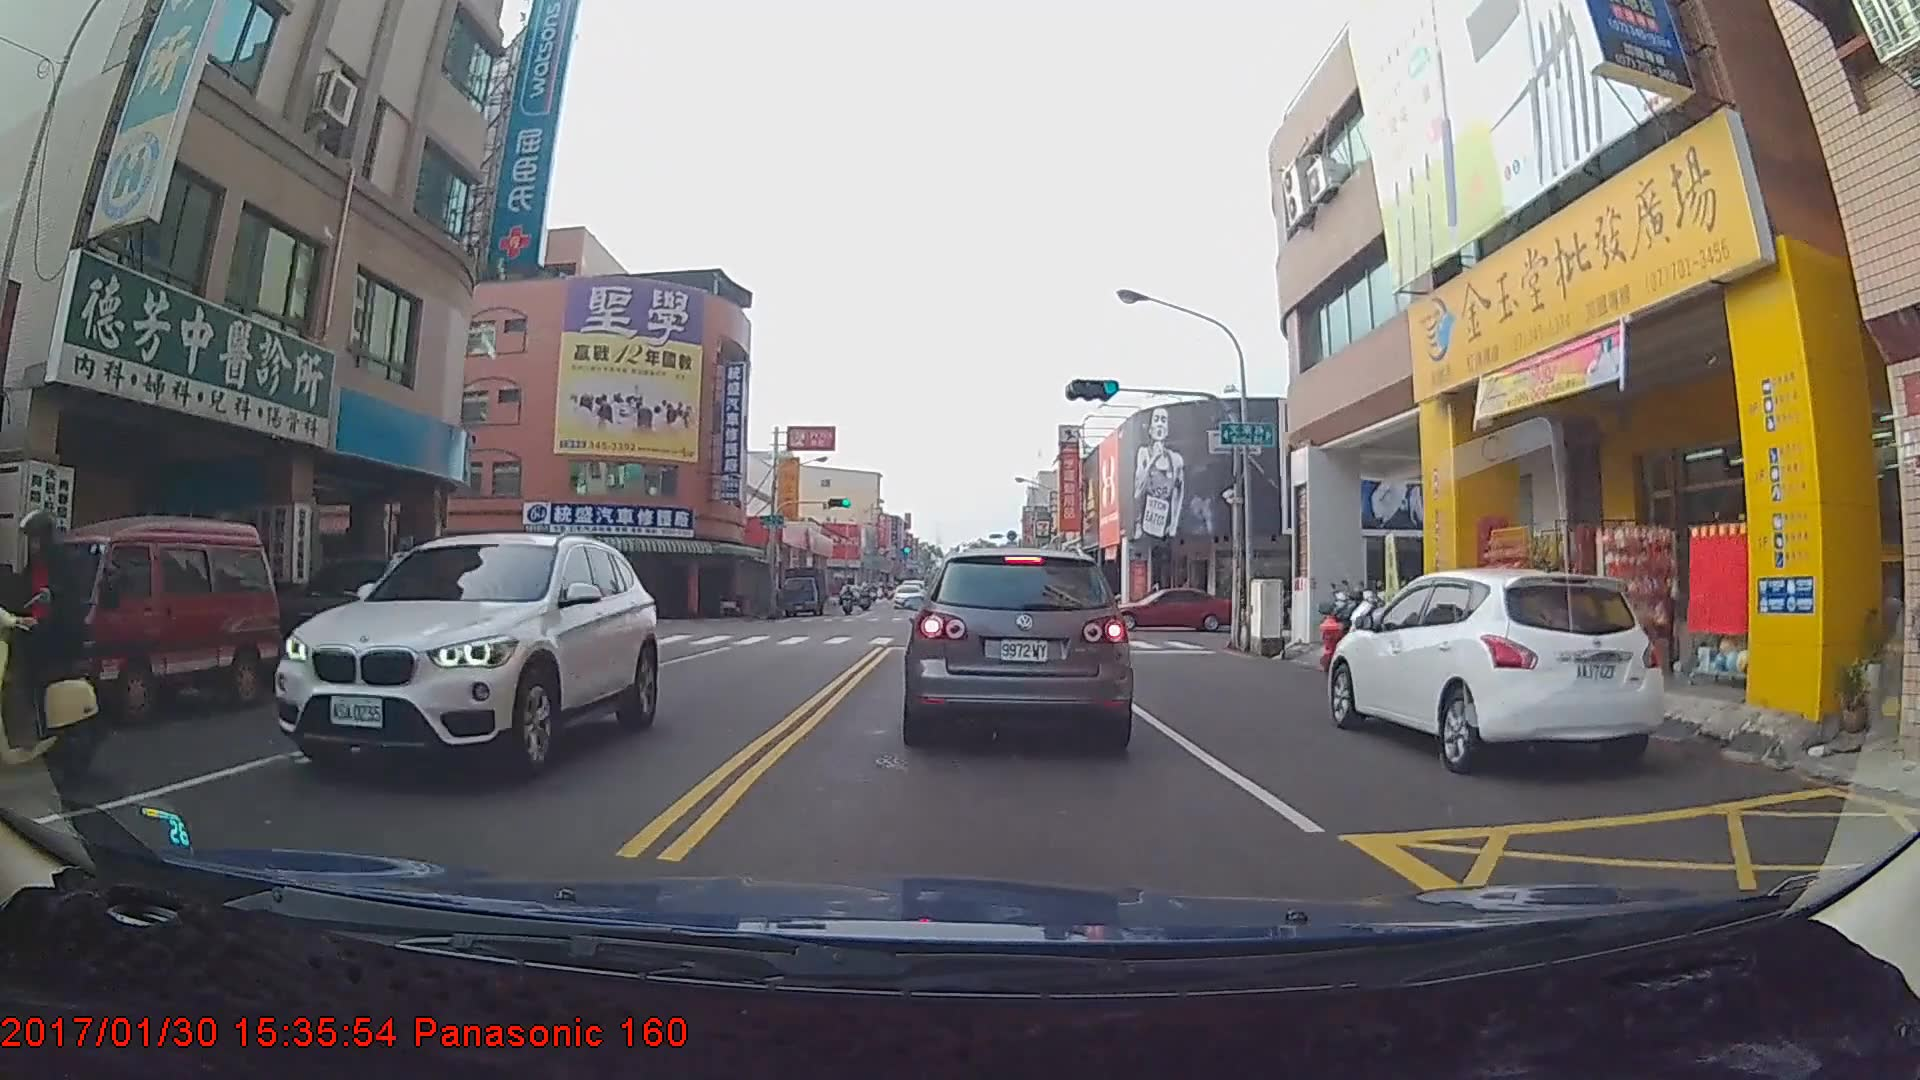rider: (1, 504, 118, 786), (837, 577, 858, 612), (847, 576, 867, 605)
vehicle: (272, 530, 659, 775), (1328, 566, 1665, 774), (39, 523, 286, 718), (909, 543, 1128, 748), (1104, 584, 1231, 633), (776, 564, 828, 615), (892, 580, 925, 607)
